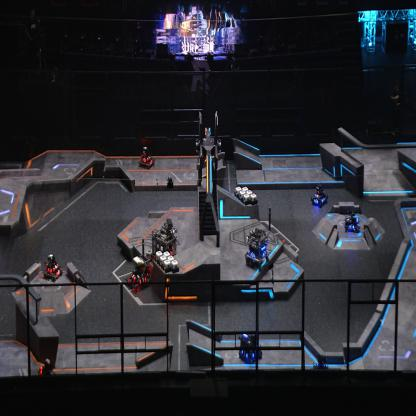car: (151, 223, 177, 266), (244, 228, 269, 269), (126, 253, 152, 292), (237, 331, 262, 364), (36, 358, 60, 392), (311, 354, 333, 384), (42, 253, 64, 281), (138, 144, 155, 170), (343, 208, 360, 233), (311, 184, 328, 208)
